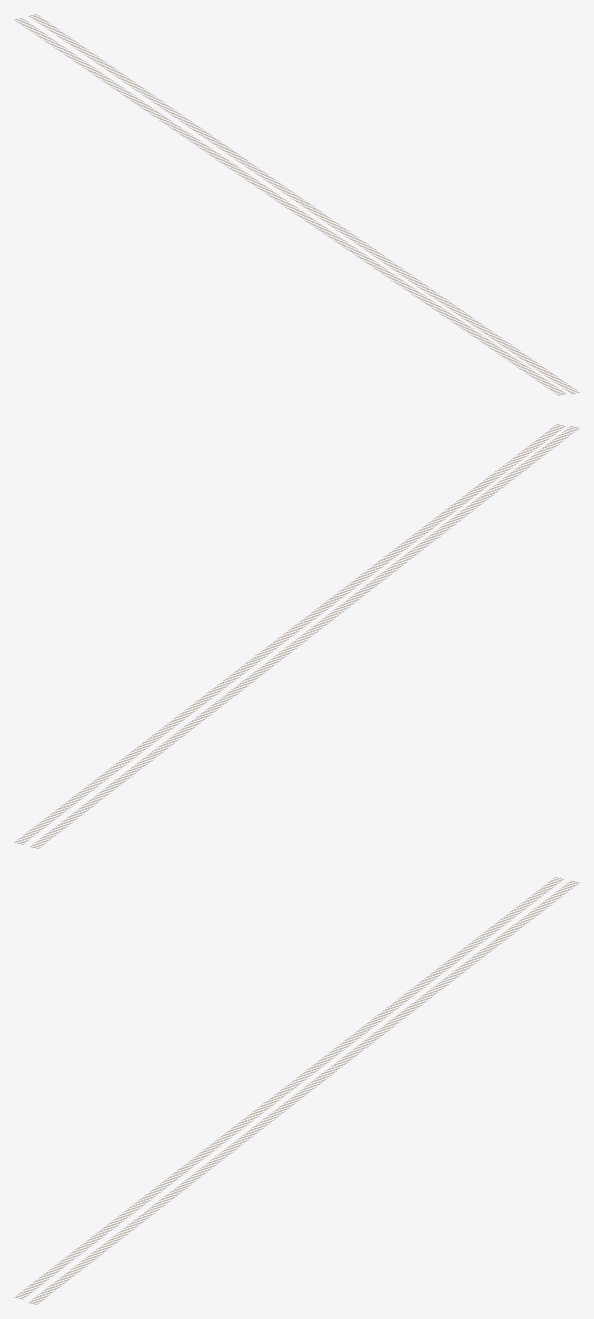
File: c_1629_17838_rail_sleeper.glb
3 renders of one model, top to bottom at view 1: azimuth 30°, elevation 25°; view 2: azimuth 150°, elevation 25°; view 3: azimuth 330°, elevation 25°, orthographic. The views are drawn at different scales.
Parts seen in each view (by area): view 1: geometry_0; view 2: geometry_0; view 3: geometry_0.
Boxes of the visible parts, <box> form: geometry_0: <box>14,14,579,395</box>; geometry_0: <box>14,424,579,848</box>; geometry_0: <box>14,877,579,1304</box>.
Size of the model in its own units: 12.63 by 0.4668 by 255.
